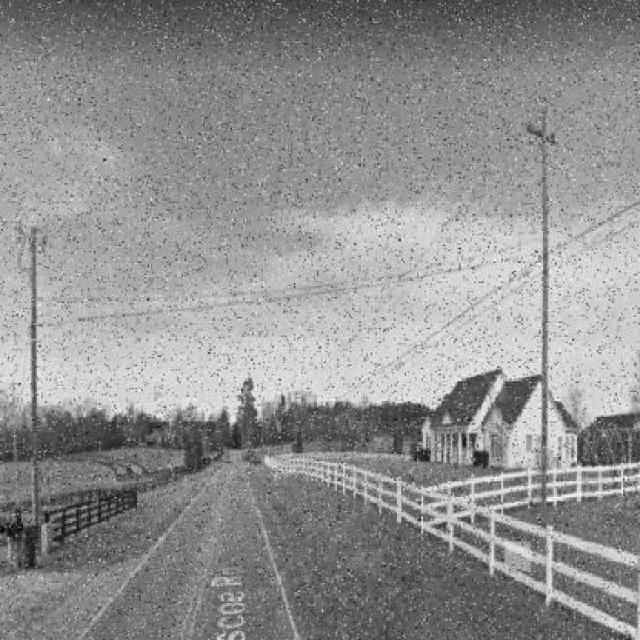pole: (483, 54, 603, 597), (2, 172, 82, 586)
